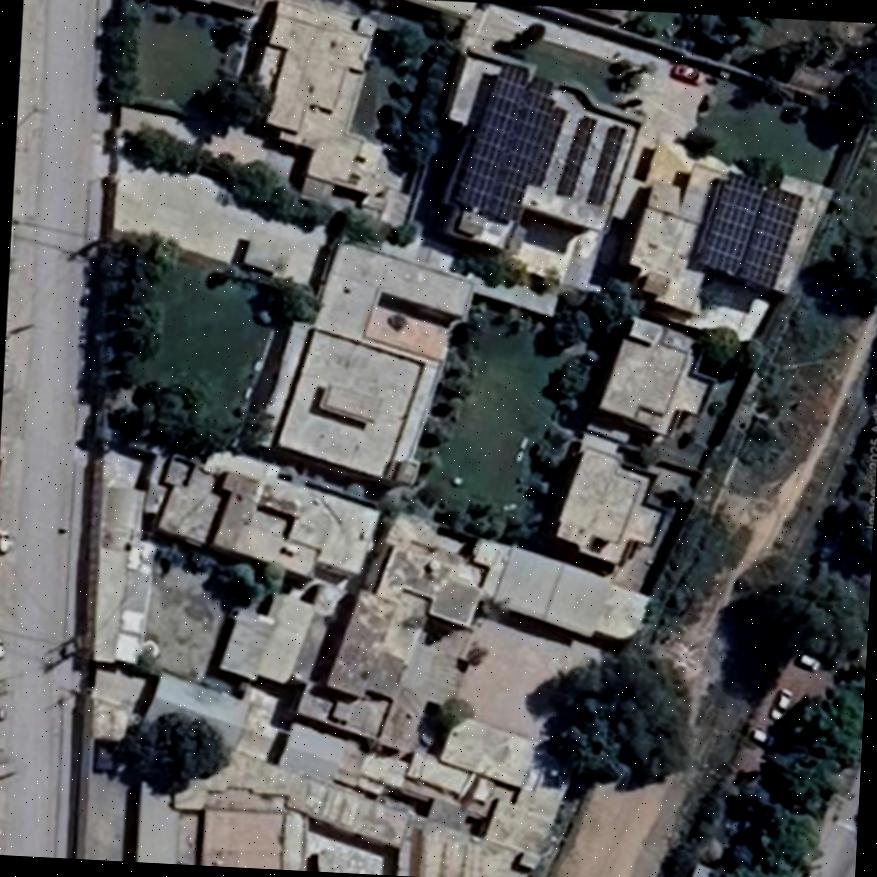Solarpanel: (455, 64, 556, 221), (695, 174, 803, 288), (584, 125, 627, 202), (557, 116, 596, 194), (527, 107, 566, 183)
